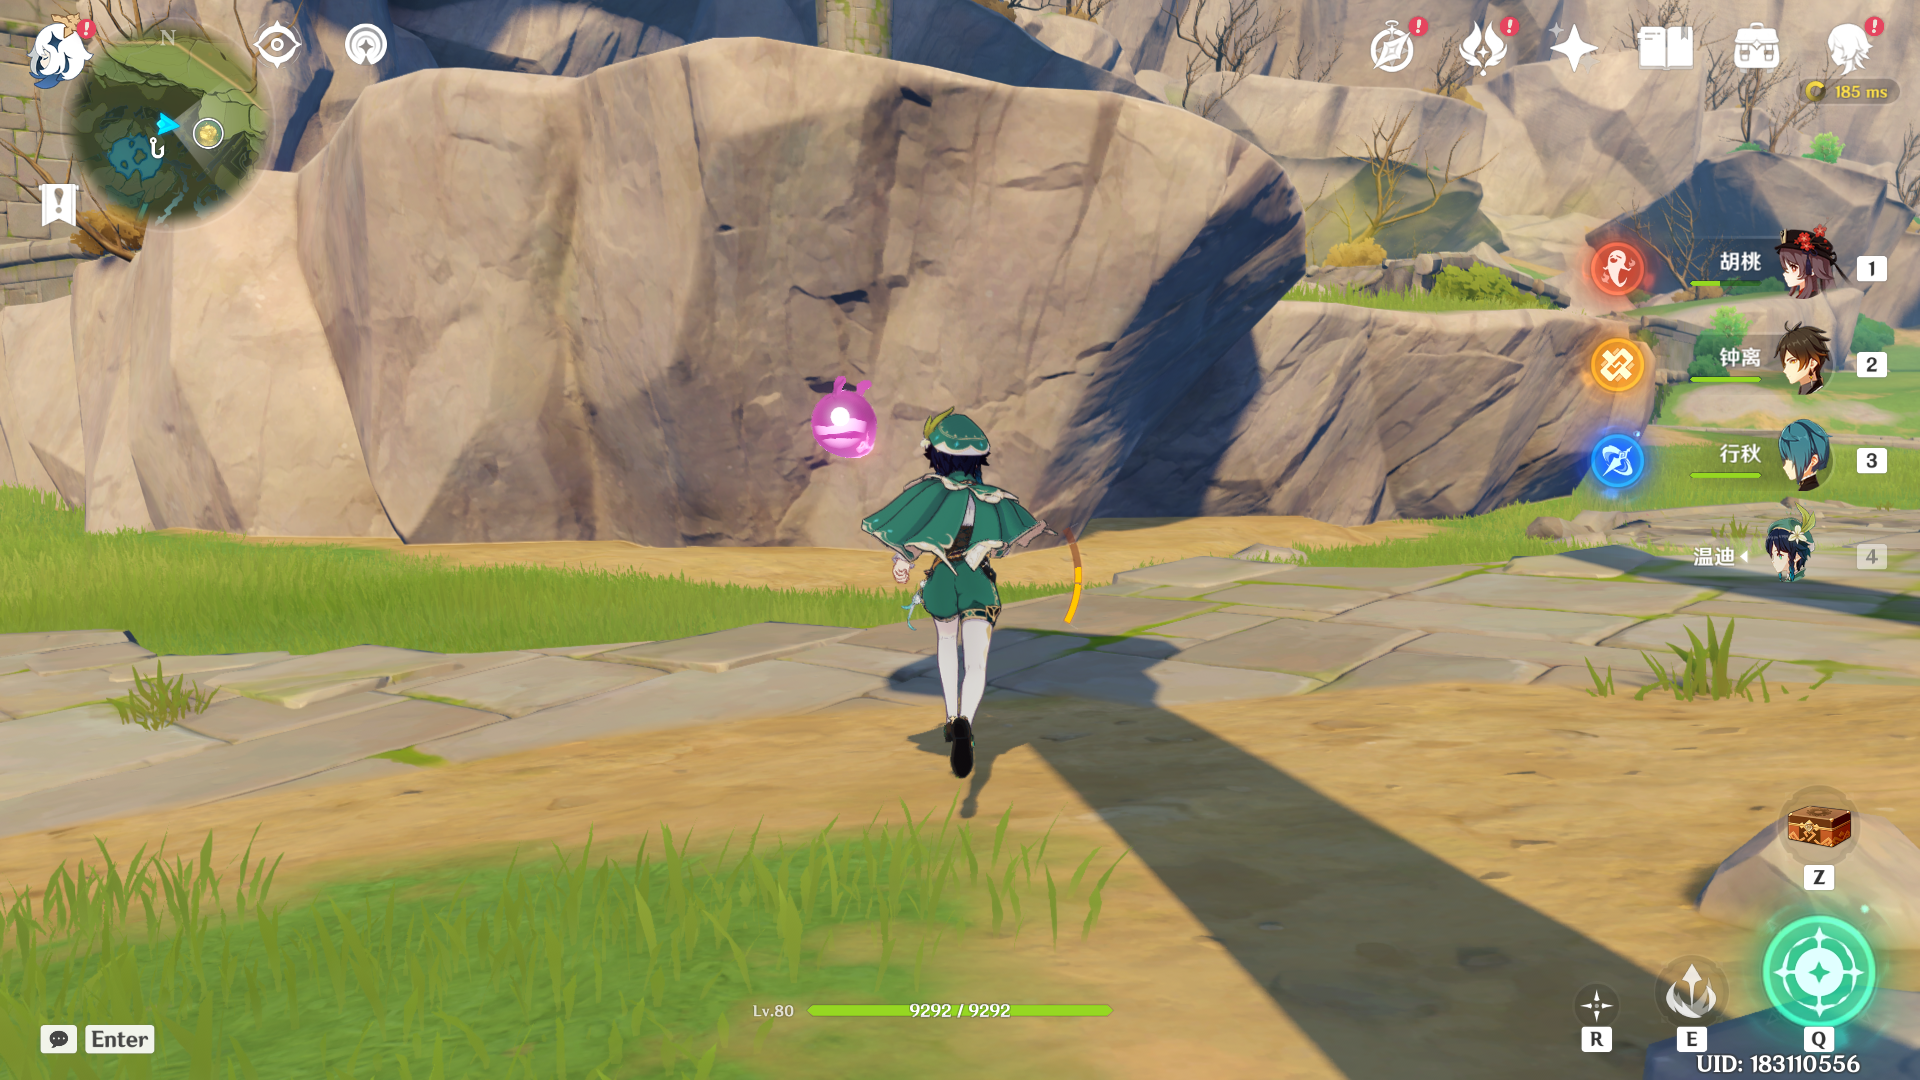character: (829, 392, 1084, 798)
